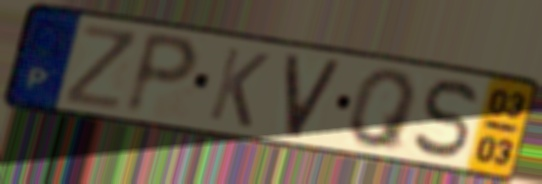K: (204, 43, 274, 131)
P: (120, 27, 204, 119)
Q: (346, 67, 421, 154)
S: (410, 77, 481, 161)
V: (282, 51, 346, 141)
Z: (62, 21, 140, 114)
